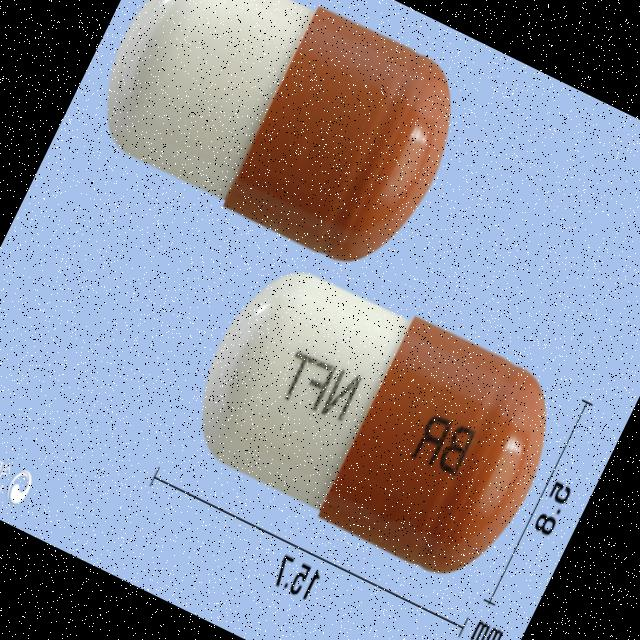Boryung Nitrofurantoin: (164, 238, 578, 601), (67, 0, 487, 293)
